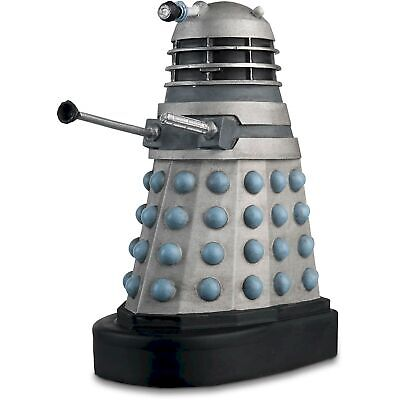dalek: (96, 0, 370, 379)
